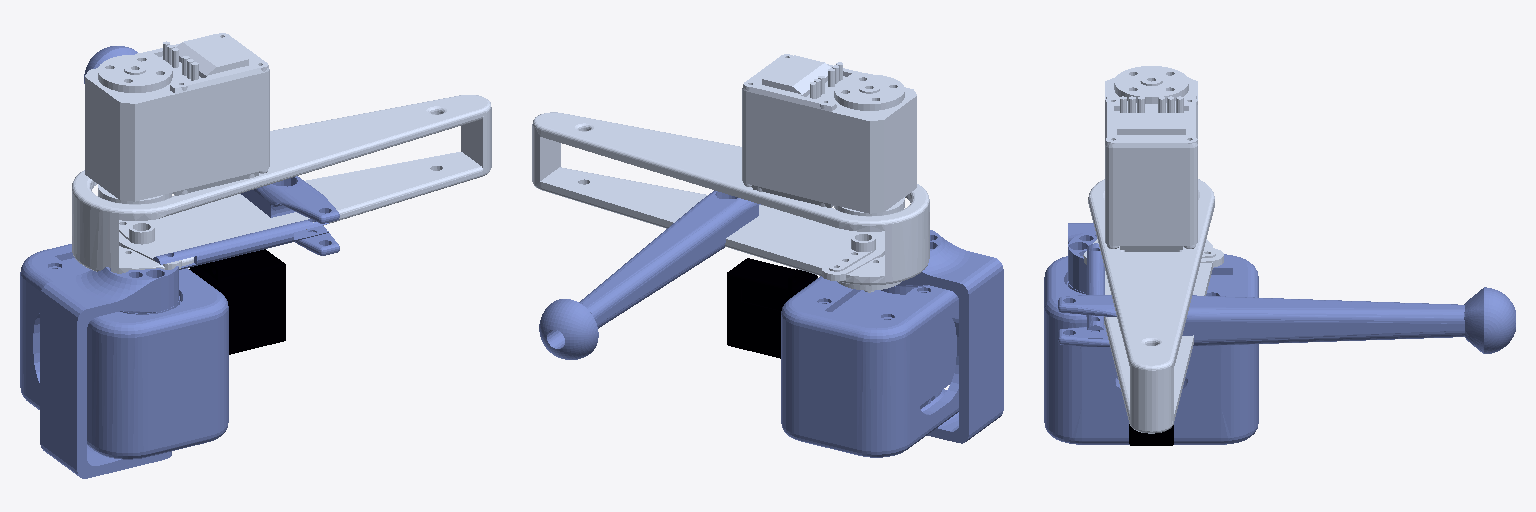
URDF robot description (quad_quad_limb):
<?xml version="1.0" encoding="UTF-8"?>

<robot name="quad_quad_limb">
    <!-- Links -->
    <link name="base_link">
        <inertial>
            <origin xyz="0.012807313311312 0.00598090852226242 -0.0117251285139543" rpy="0 0 0" />
            <mass value="0.723402556361831" />
            <inertia ixx="4.05147247523767E-05" ixy="3.01231584549377E-08" ixz="-1.88167986432032E-06" iyy="7.38938259329422E-05" iyz="7.90595902470049E-08" izz="5.0342421323583E-05" />
        </inertial>
        <visual>
            <origin xyz="0 0 0" rpy="0 0 0" />
            <geometry>
                <mesh filename="package://bot_description/meshes/base_link.STL" />
            </geometry>
            <material name="">
                <color rgba="0.00392156862745098 0 0.0196078431372549 1" />
            </material>
        </visual>
        <collision>
            <origin xyz="0 0 0" rpy="0 0 0" />
            <geometry>
                <mesh filename="package://bot_description/meshes/base_link.STL" />
            </geometry>
        </collision>
    </link>
    <link name="shoulder_link">
        <inertial>
            <origin xyz="0.00770399429191724 9.32504877206378E-06 0.0207339193469641" rpy="0 0 0" />
            <mass value="1.48104574438063" />
            <inertia ixx="1.88189230614178E-04" ixy="3.01231584549858E-08" ixz="1.68325026936694E-06" iyy="2.59134654836223E-04" iyz="-7.90595902469875E-08" izz="1.39963201919848E-04" />
        </inertial>
        <visual>
            <origin xyz="0 0 0" rpy="0 0 0" />
            <geometry>
                <mesh filename="package://bot_description/meshes/shoulder_link.STL" />
            </geometry>
            <material name="">
                <color rgba="0.545098039215686 0.615686274509804 0.858823529411765 1" />
            </material>
        </visual>
        <collision>
            <origin xyz="0 0 0" rpy="0 0 0" />
            <geometry>
                <mesh filename="package://bot_description/meshes/shoulder_link.STL" />
            </geometry>
        </collision>
    </link>
    <link name="femur_link">
        <inertial>
            <origin xyz="0.0124792168310497 9.99428181540189E-06 0.0185705130302731" rpy="0 0 0" />
            <mass value="1.38239022547814" />
            <inertia ixx="8.42245738682422E-05" ixy="-7.91960713042997E-08" ixz="-9.47919040177247E-06" iyy="3.58798405876978E-04" iyz="-3.01970991415103E-08" izz="3.1267090240501E-04" />
        </inertial>
        <visual>
            <origin xyz="0 0 0" rpy="0 0 0" />
            <geometry>
                <mesh filename="package://bot_description/meshes/femur_link.STL" />
            </geometry>
            <material name="">
                <color rgba="0.866666666666667 0.909803921568627 1 1" />
            </material>
        </visual>
        <collision>
            <origin xyz="0 0 0" rpy="0 0 0" />
            <geometry>
                <mesh filename="package://bot_description/meshes/femur_link.STL" />
            </geometry>
        </collision>
    </link>
    <link name="tibia_link">
        <inertial>
            <origin xyz="0.0156981068181742 3.55361015266786E-09 7.93462496675047E-05" rpy="0 0 0" />
            <mass value="0.70755567397191" />
            <inertia ixx="1.28214686803871E-05" ixy="4.5956055502833E-11" ixz="1.45828471109314E-06" iyy="1.81740201742321E-04" iyz="-7.36270952752015E-12" izz="1.83619400245263E-04" />
        </inertial>
        <visual>
            <origin xyz="0 0 0" rpy="0 0 0" />
            <geometry>
                <mesh filename="package://bot_description/meshes/tibia_link.STL" />
            </geometry>
            <material name="">
                <color rgba="0.545098039215686 0.615686274509804 0.858823529411765 1" />
            </material>
        </visual>
        <collision>
            <origin xyz="0 0 0" rpy="0 0 0" />
            <geometry>
                <mesh filename="package://bot_description/meshes/tibia_link.STL" />
            </geometry>
        </collision>
    </link>
    <link name="tab_link">
        <inertial>
            <origin xyz="-0.00203367196621368 -6.01949046163952E-16 0.00395500792852426" rpy="0 0 0" />
            <mass value="0.116134718742782" />
            <inertia ixx="1.0E-05" ixy="0.0" ixz="0.0" iyy="1.0E-05" iyz="0.0" izz="1.0E-05" />
        </inertial>
        <visual>
            <origin xyz="0 0 0" rpy="0 0 0" />
            <geometry>
                <mesh filename="package://bot_description/meshes/tab_link.STL" />
            </geometry>
            <material name="">
                <color rgba="0.866666666666667 0.909803921568627 1 1" />
            </material>
        </visual>
        <collision>
            <origin xyz="0 0 0" rpy="0 0 0" />
            <geometry>
                <mesh filename="package://bot_description/meshes/tab_link.STL" />
            </geometry>
        </collision>
    </link>
    <link name="rod_link">
        <inertial>
            <origin xyz="0.021999975174988 7.77439050636541E-09 -6.17363184046704E-08" rpy="0 0 0" />
            <mass value="0.0929490166689096" />
            <inertia ixx="1.0E-05" ixy="0.0" ixz="0.0" iyy="1.0E-05" iyz="0.0" izz="1.0E-05" />
        </inertial>
        <visual>
            <origin xyz="0 0 0" rpy="0 0 0" />
            <geometry>
                <mesh filename="package://bot_description/meshes/rod_link.STL" />
            </geometry>
            <material name="">
                <color rgba="0.545098039215686 0.615686274509804 0.858823529411765 1" />
            </material>
        </visual>
        <collision>
            <origin xyz="0 0 0" rpy="0 0 0" />
            <geometry>
                <mesh filename="package://bot_description/meshes/rod_link.STL" />
            </geometry>
        </collision>
    </link>

    <!-- Joints -->
    <joint name="haa_joint" type="revolute">
        <origin xyz="-0.001 0.006 -0.016" rpy="0 -1.5708 0" />
        <parent link="base_link" />
        <child link="shoulder_link" />
        <axis xyz="0 0 1" />
        <limit lower="-1.5708" upper="0" effort="58.8" velocity="5.0" />
    </joint>
    <joint name="hfe_joint" type="revolute">
        <origin xyz="0.020875 0 0.0165" rpy="0 1.5708 0" />
        <parent link="shoulder_link" />
        <child link="femur_link" />
        <axis xyz="0 0 -1" />
        <limit lower="0" upper="3.14" effort="58.8" velocity="5.0" />
    </joint>
    <joint name="knee_joint" type="revolute">
        <origin xyz="0.046 0 0.0106" rpy="-3.1416 0 1.5708" />
        <parent link="femur_link" />
        <child link="tibia_link" />
        <axis xyz="0 0 1" />
        <limit lower="-0.87267" upper="0.87267" effort="1000.0" velocity="5.0" />
    </joint>
    <joint name="kfe_motor_joint" type="revolute">
        <origin xyz="0.002 0 0.0132" rpy="-3.1416 0 -1.5708" />
        <parent link="femur_link" />
        <child link="tab_link" />
        <axis xyz="0 0 -1" />
        <limit lower="-0.87267" upper="0.87267" effort="58.8" velocity="5.0" />
    </joint>
    <joint name="rod_joint" type="revolute">
        <origin xyz="0.015 0 0.0045" rpy="0 0 -1.5708" />
        <parent link="tab_link" />
        <child link="rod_link" />
        <axis xyz="0 0 -1" />
        <limit lower="-0.87267" upper="0.87267" effort="1000.0" velocity="5.0" />
    </joint>
</robot>

--- Render facts (derived) ---
The picture shows the robot from 3 angles, left to right: view 1: azimuth 30°, elevation 25°; view 2: azimuth 150°, elevation 25°; view 3: azimuth 270°, elevation 25°; orthographic projection.
Robot: quad_quad_limb — 6 links, 5 joints (5 revolute); root link base_link; default pose: all joints at 0.
Links seen in each view (by area): view 1: femur_link, shoulder_link, base_link, tibia_link, rod_link, tab_link; view 2: femur_link, shoulder_link, tibia_link, base_link, tab_link; view 3: femur_link, shoulder_link, tibia_link, rod_link, base_link.
Boxes of the visible links, x1,y1,x2,y2 form: femur_link: (72, 33, 491, 273); shoulder_link: (20, 244, 228, 478); base_link: (189, 249, 285, 354); tibia_link: (84, 46, 339, 255); rod_link: (153, 219, 328, 269); tab_link: (119, 220, 181, 269); femur_link: (532, 54, 929, 292); shoulder_link: (781, 230, 1003, 457); tibia_link: (539, 190, 758, 359); base_link: (727, 258, 817, 358); tab_link: (822, 231, 884, 280); femur_link: (1088, 66, 1214, 433); shoulder_link: (1044, 223, 1258, 444); tibia_link: (1058, 287, 1515, 353); rod_link: (1086, 243, 1104, 338); base_link: (1129, 424, 1173, 445).
Bounding box of the posed robot: 0.1399 × 0.1262 × 0.1067 m (x, y, z).
6 mesh visuals loaded from 6 distinct referenced files (6 binary STL).
